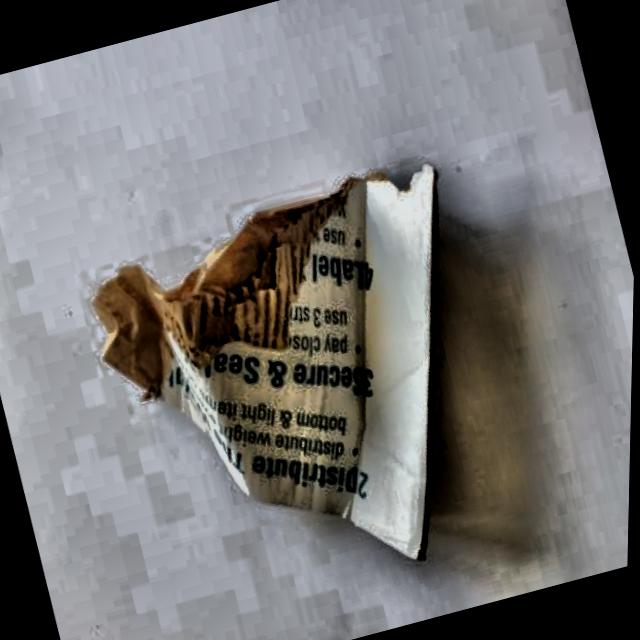Cardbox: (0, 72, 551, 640)
